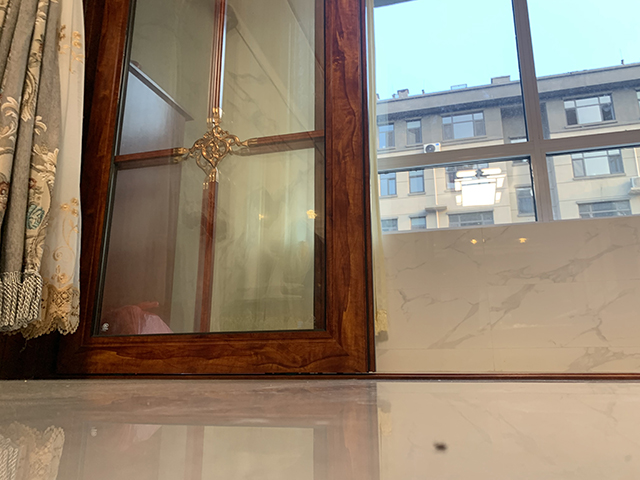curtain: (1, 1, 86, 338)
